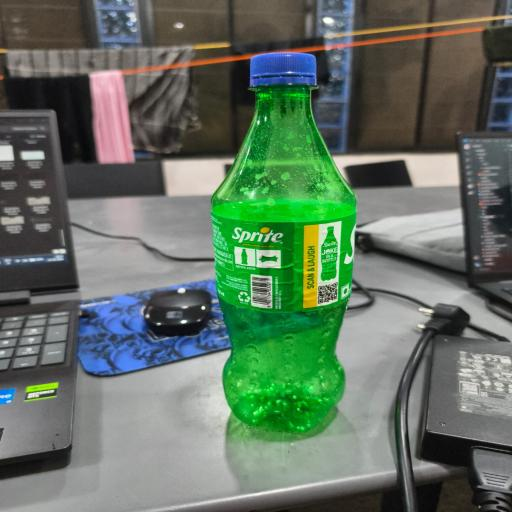Sprite: (211, 52, 356, 432)
